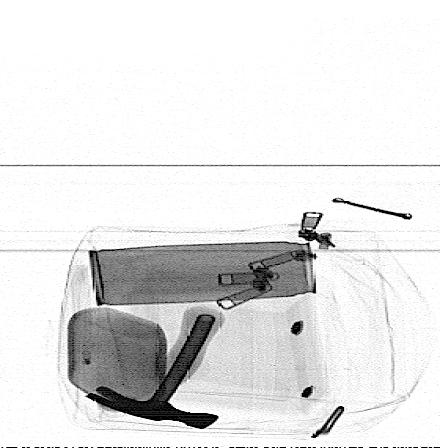Hammer: (86, 307, 227, 429)
